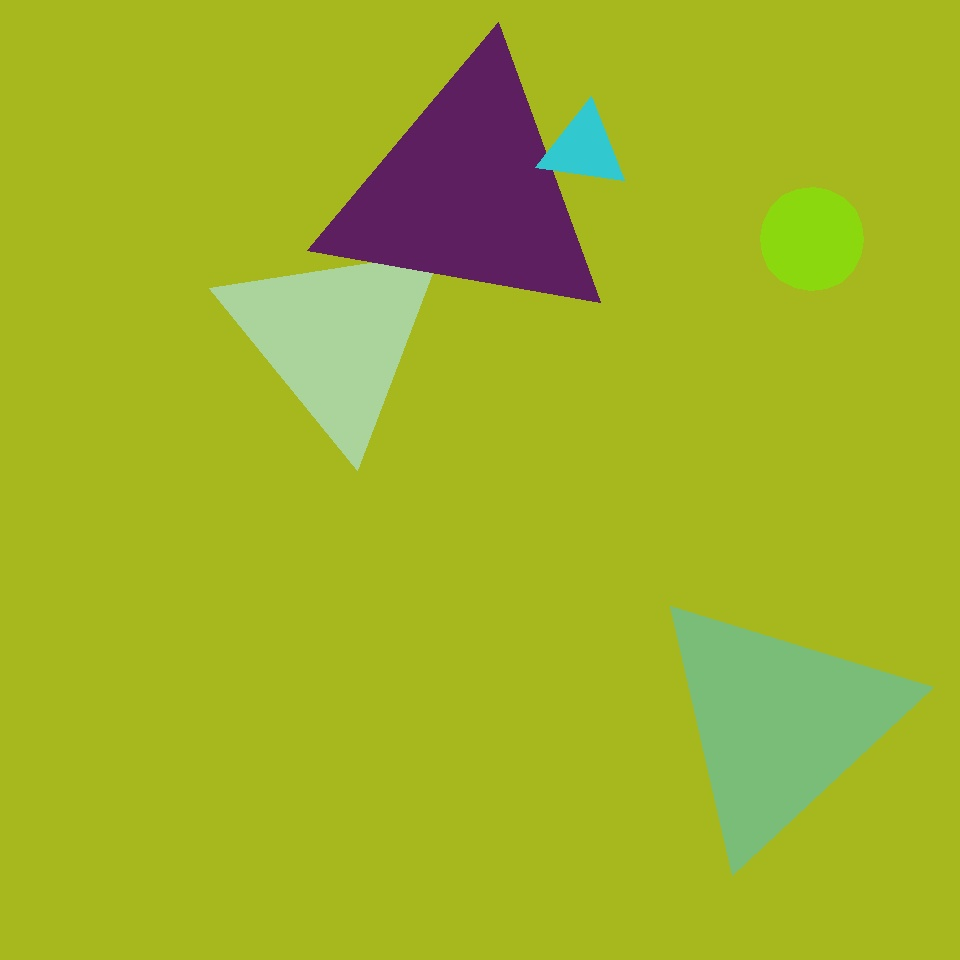circle: (322, 52, 616, 332), (648, 588, 910, 858), (463, 145, 716, 416), (220, 228, 451, 446), (387, 141, 565, 343), (539, 106, 628, 190)
triangle: (760, 188, 864, 290)
